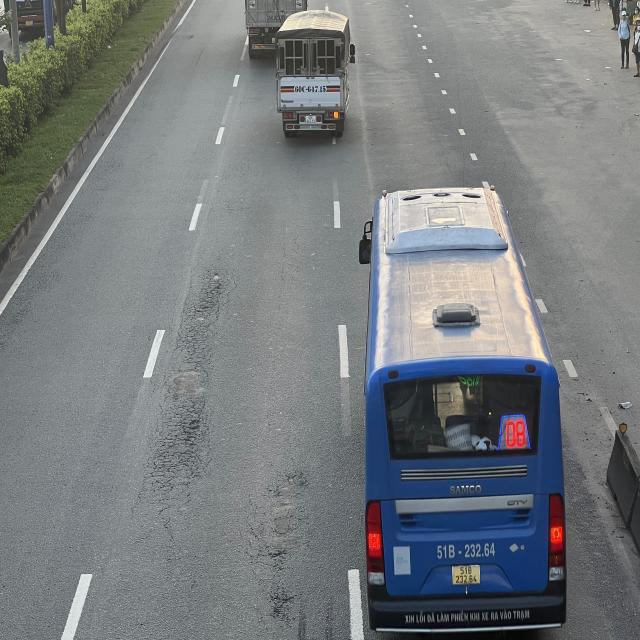coach: (358, 186, 568, 640)
truck: (278, 11, 358, 138), (245, 0, 305, 59)
